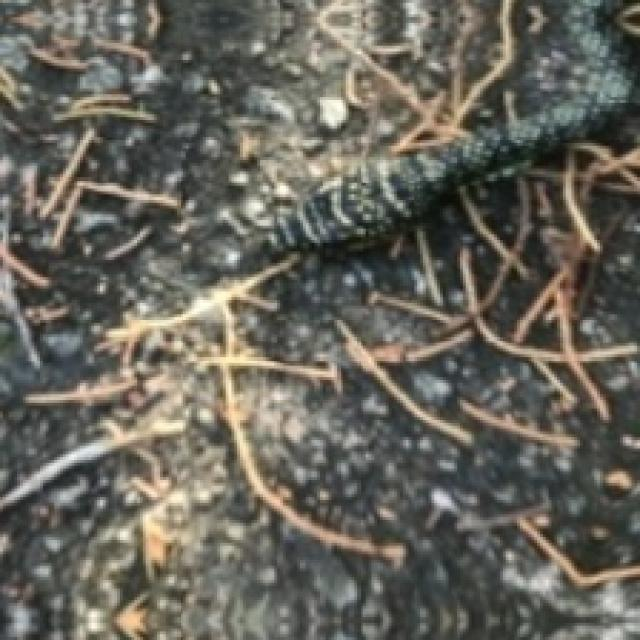paradise tree snake: (243, 0, 631, 243)
